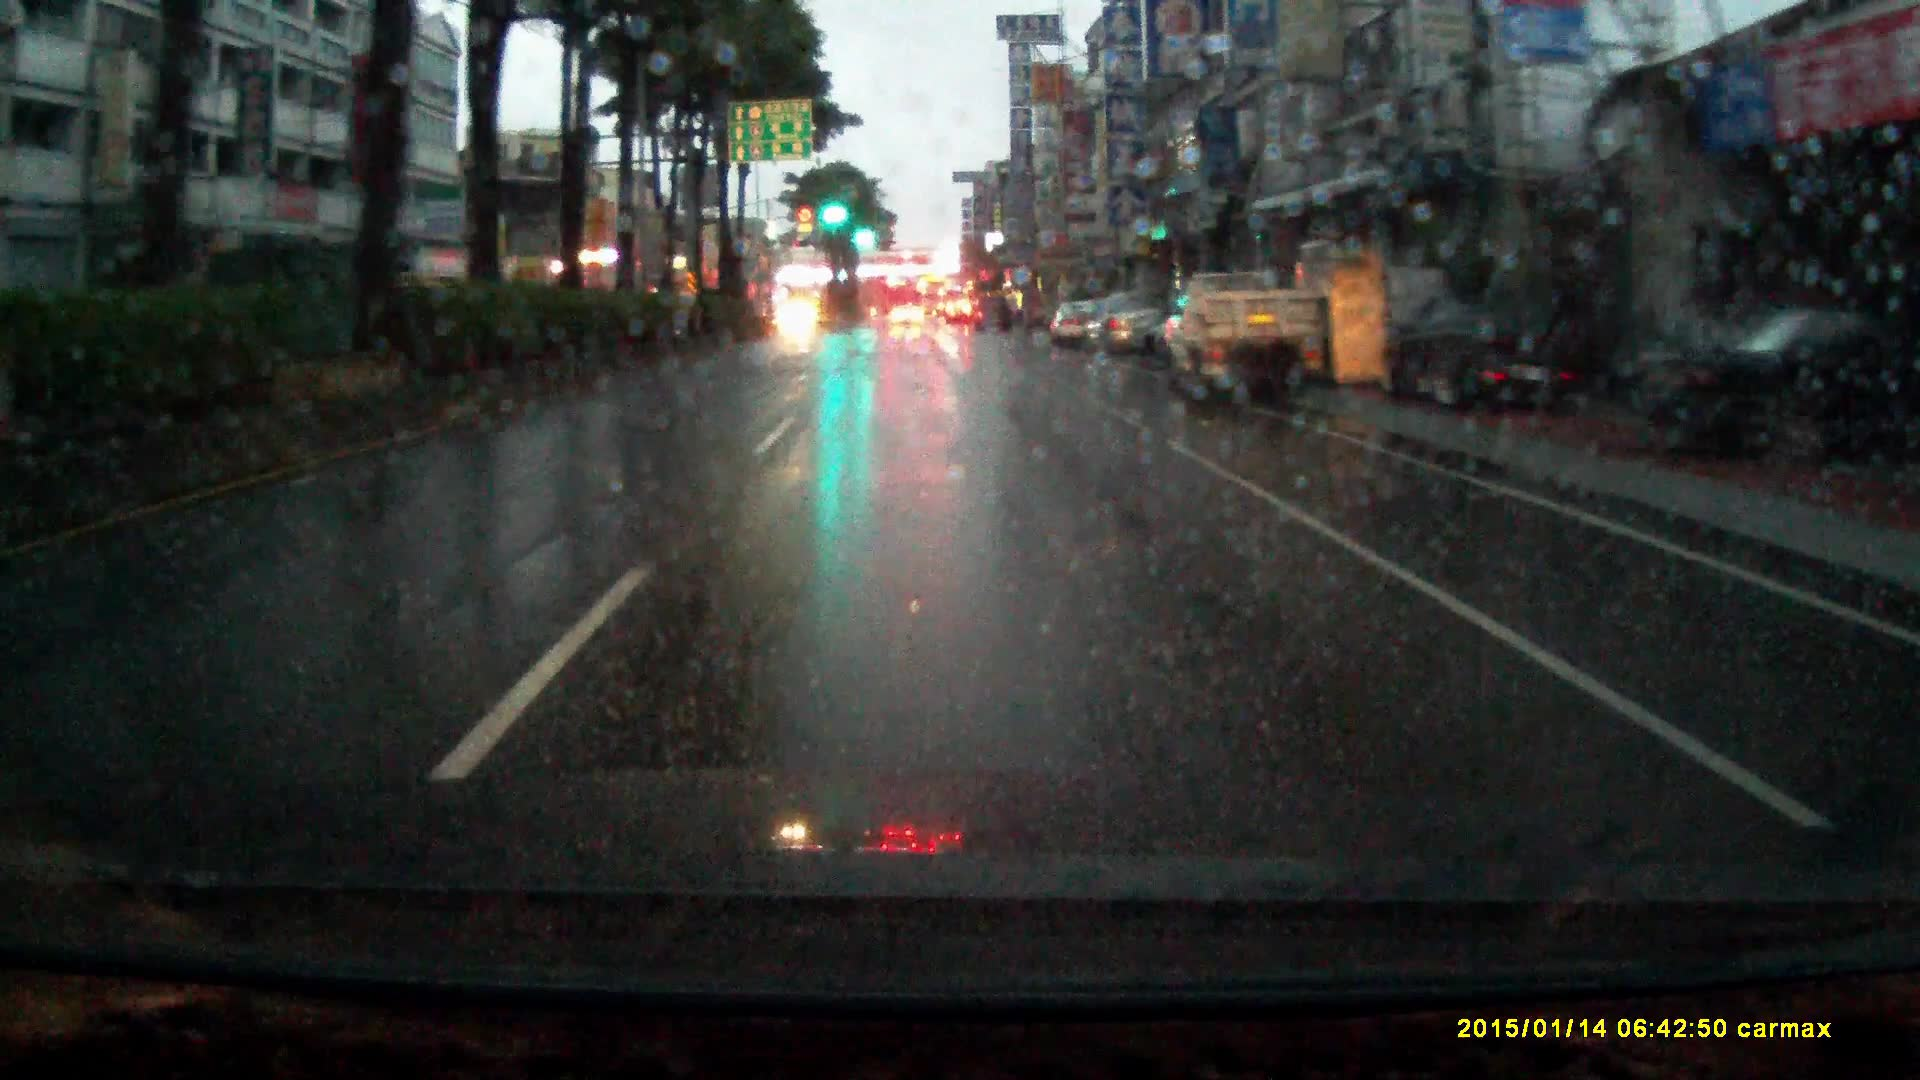vehicle: (1638, 303, 1920, 469), (1387, 295, 1590, 415), (1162, 266, 1332, 404), (1087, 287, 1160, 353), (1050, 294, 1098, 343), (778, 298, 822, 336), (975, 291, 1014, 331), (920, 277, 943, 314), (890, 301, 924, 322), (945, 295, 972, 322)
